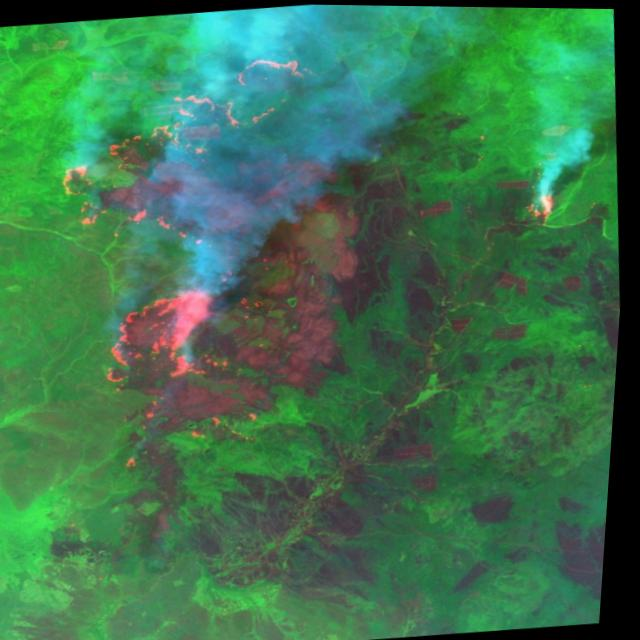fire: (31, 39, 360, 495), (512, 156, 582, 227)
